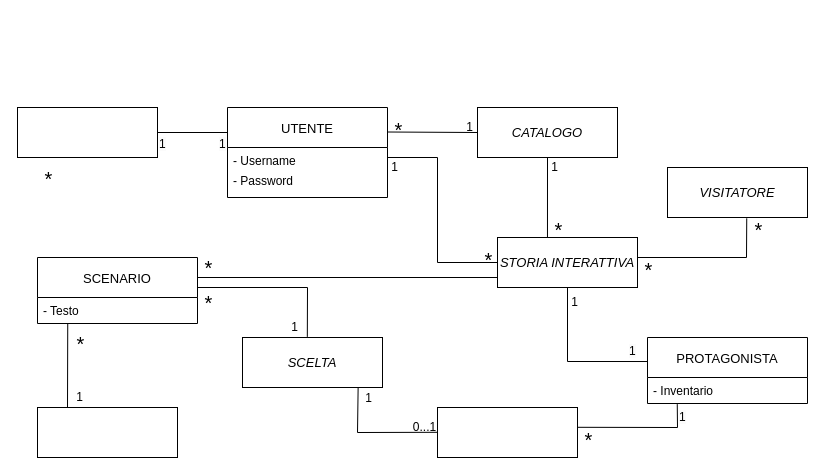
The diagram is 825 pixels wide and 475 high, and some of its shapes have lost their labels. Here are the shapes that lost their labels. From the top down, the centre of each, then its label:
At point (87, 132): "REGISTRAZIONE".
At point (107, 432): "INDOVINELLO".
At point (507, 432): "OGGETTO".
